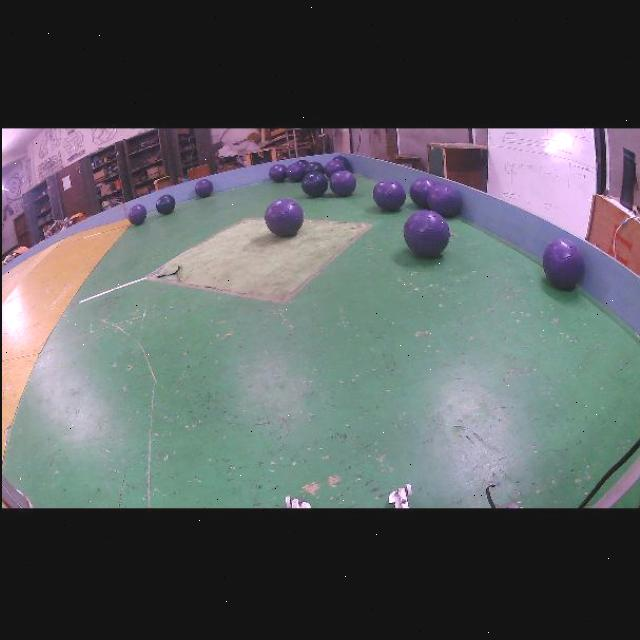B: (300, 170, 326, 195), (155, 192, 175, 213), (303, 159, 324, 173), (333, 153, 350, 169)
P: (402, 208, 449, 256), (542, 236, 582, 288), (263, 196, 303, 235), (425, 182, 460, 215), (371, 178, 404, 210), (408, 177, 435, 207), (328, 169, 355, 195), (324, 157, 345, 177), (126, 203, 145, 223), (284, 161, 304, 180), (267, 162, 285, 181), (193, 177, 211, 195)
